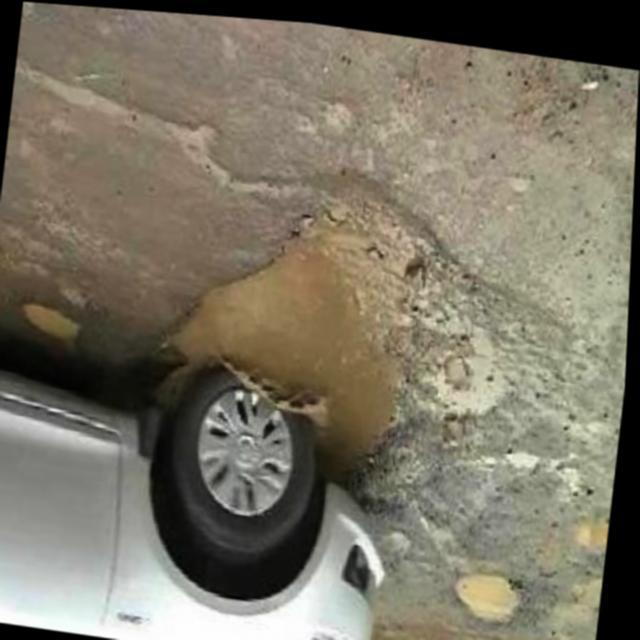pothole: (151, 202, 428, 492), (454, 552, 534, 622), (19, 298, 88, 352)
